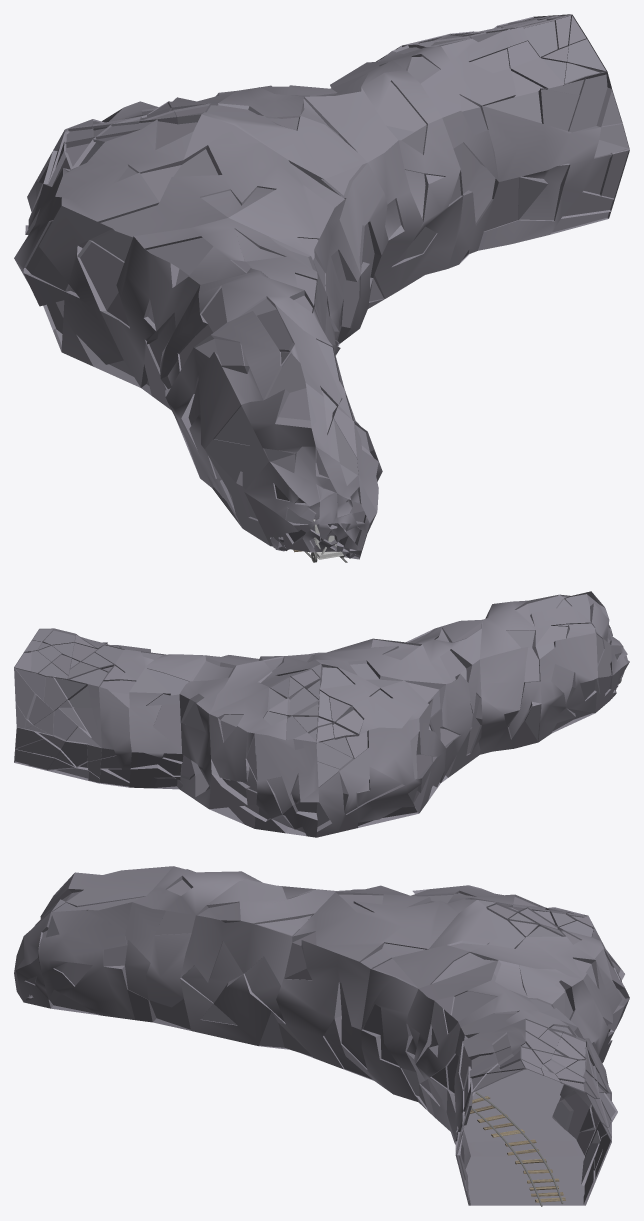
The model's file is mine_model_interior.fbx.
The picture shows the model from 3 angles, top to bottom: view 1: azimuth 30°, elevation 25°; view 2: azimuth 150°, elevation 25°; view 3: azimuth 270°, elevation 25°; orthographic projection. The views are drawn at different scales.
Parts seen in each view (by area): view 1: pCube1; view 2: pCube1; view 3: pCube1.
Boxes of the visible parts, bbox=[...] form: pCube1: bbox=[14, 14, 629, 559]; pCube1: bbox=[14, 591, 629, 837]; pCube1: bbox=[14, 866, 629, 1205].
Size of the model in its own units: 213 by 65.6 by 235.
